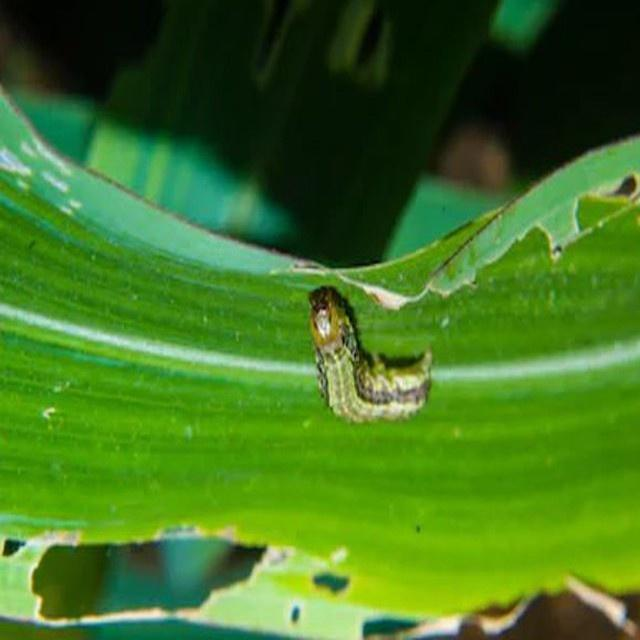Plaga: (301, 293, 434, 410)
